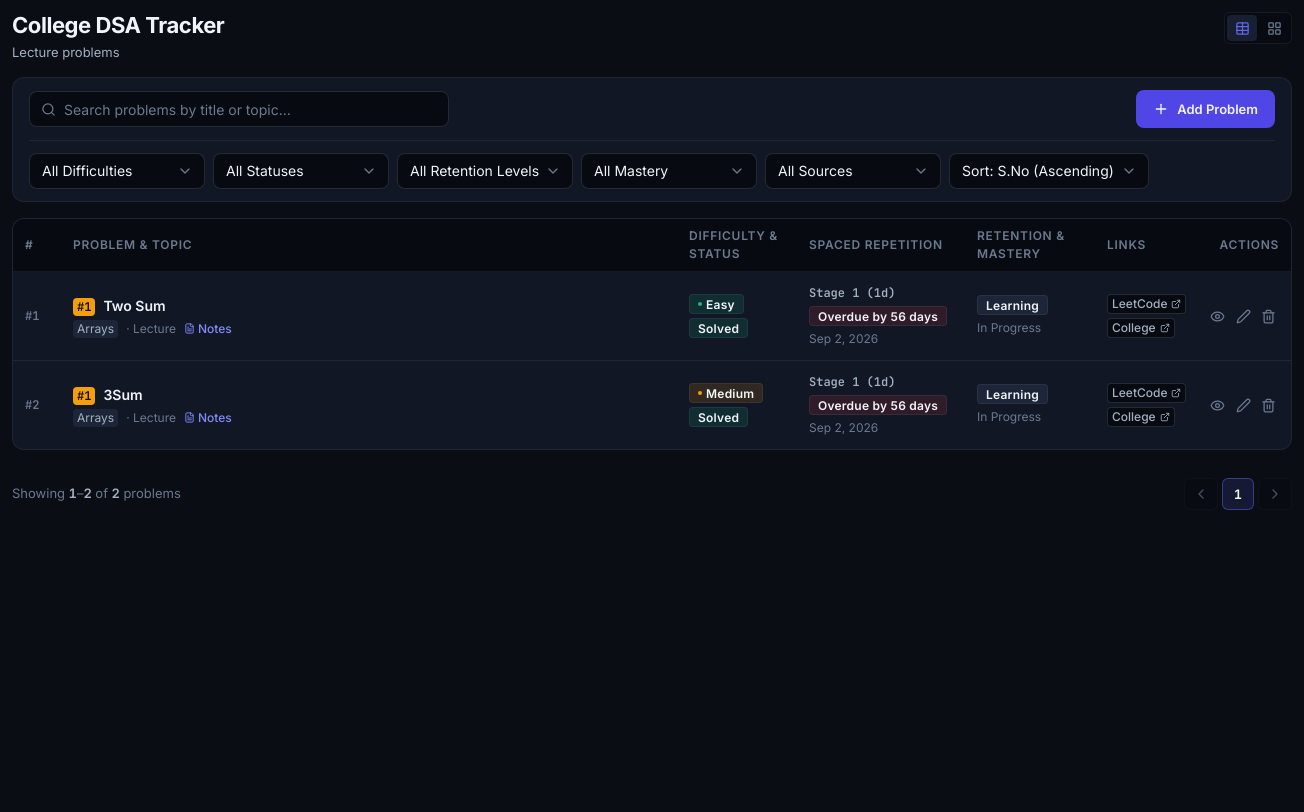
Shared Tracker Architecture (TrackerPage, CollegeDsaPage, PersonalDsaPage) › renders problems in table view by default and switches to cards view and back
Expected: the link "Two Sum" is shown, [103, 294, 166, 316]
Expected: the link "3Sum" is shown, [103, 384, 143, 404]
Note: Switch to cards view
Click the button titled "Card view" at (1274, 28), box [1259, 15, 1289, 41]
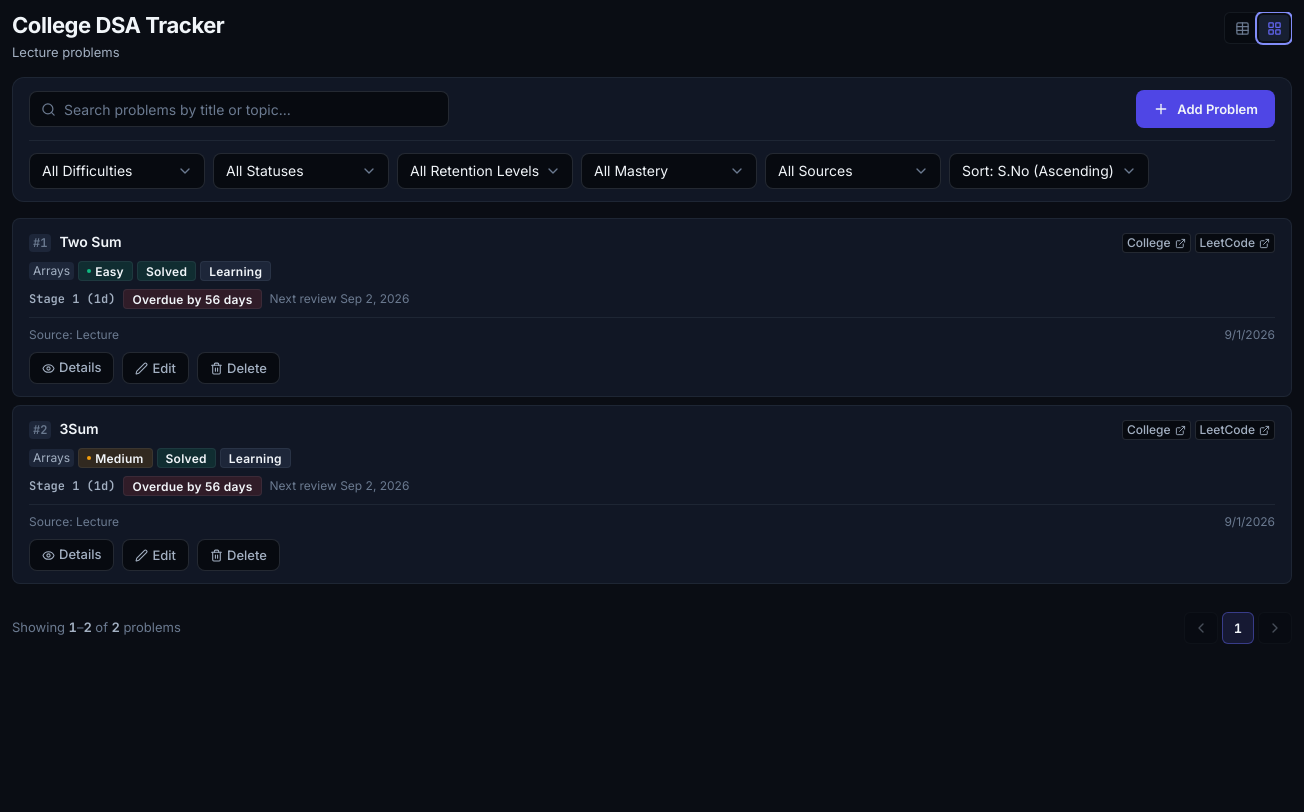
Expected: the link "Two Sum" is shown, [59, 233, 122, 250]
Result: the table is gone
Note: Switch back to table view
Click the button titled "Table view" at (1242, 28), box [1227, 15, 1257, 41]
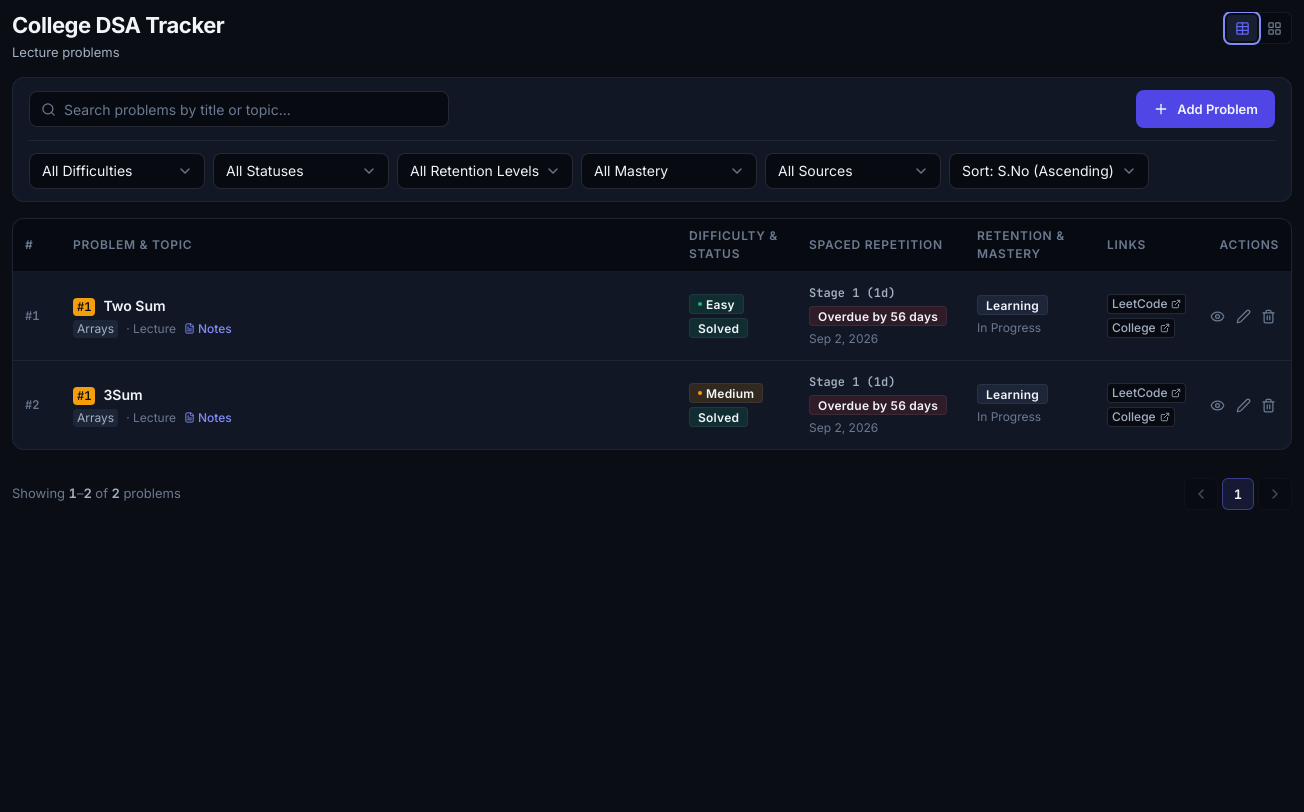
Result: the table is shown at [13, 219, 1291, 449]
